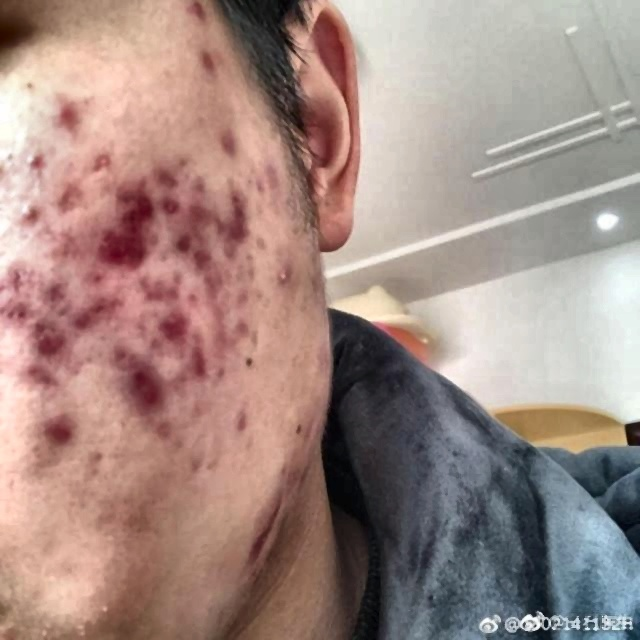nodule: (127, 366, 188, 420), (16, 355, 76, 400), (98, 222, 146, 262), (37, 409, 85, 448), (71, 291, 114, 334), (157, 277, 210, 310), (151, 219, 194, 259), (40, 270, 74, 314), (245, 530, 286, 566), (12, 148, 58, 179), (7, 203, 42, 243), (50, 98, 84, 138), (31, 232, 70, 266), (214, 185, 254, 218), (141, 154, 176, 191), (52, 176, 90, 210), (151, 322, 197, 350), (278, 465, 314, 499), (0, 290, 34, 325), (260, 165, 288, 206), (206, 314, 243, 345), (184, 243, 213, 282), (256, 500, 294, 529), (82, 259, 114, 293), (216, 122, 248, 155), (77, 148, 114, 176), (221, 218, 245, 258), (37, 318, 61, 355), (187, 354, 216, 384), (197, 37, 219, 76), (182, 170, 210, 197), (130, 183, 158, 210), (98, 333, 124, 361), (178, 195, 203, 224), (125, 272, 164, 290), (234, 406, 253, 432), (273, 269, 291, 296)
